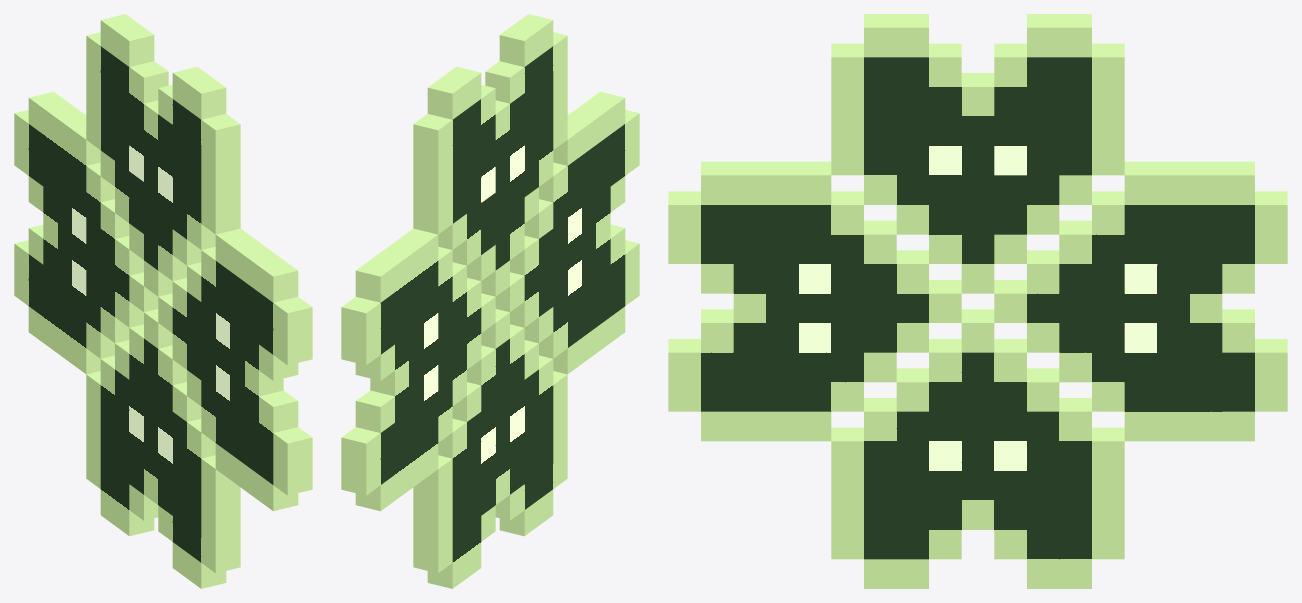
The model's file is koniczyna.dae.
3 renders of one model, left to right at view 1: azimuth 30°, elevation 25°; view 2: azimuth 150°, elevation 25°; view 3: azimuth 270°, elevation 25°, orthographic. The views are drawn at different scales.
Parts seen in each view (by area): view 1: Content; view 2: Content; view 3: Content.
Boxes of the visible parts, left/top/right/bottom form: Content: left=14, top=14, right=312, bottom=588; Content: left=341, top=14, right=639, bottom=588; Content: left=668, top=14, right=1287, bottom=588.
Size of the model in its own units: 1 by 19 by 19.
Materials: 1 (1 with a texture image).
